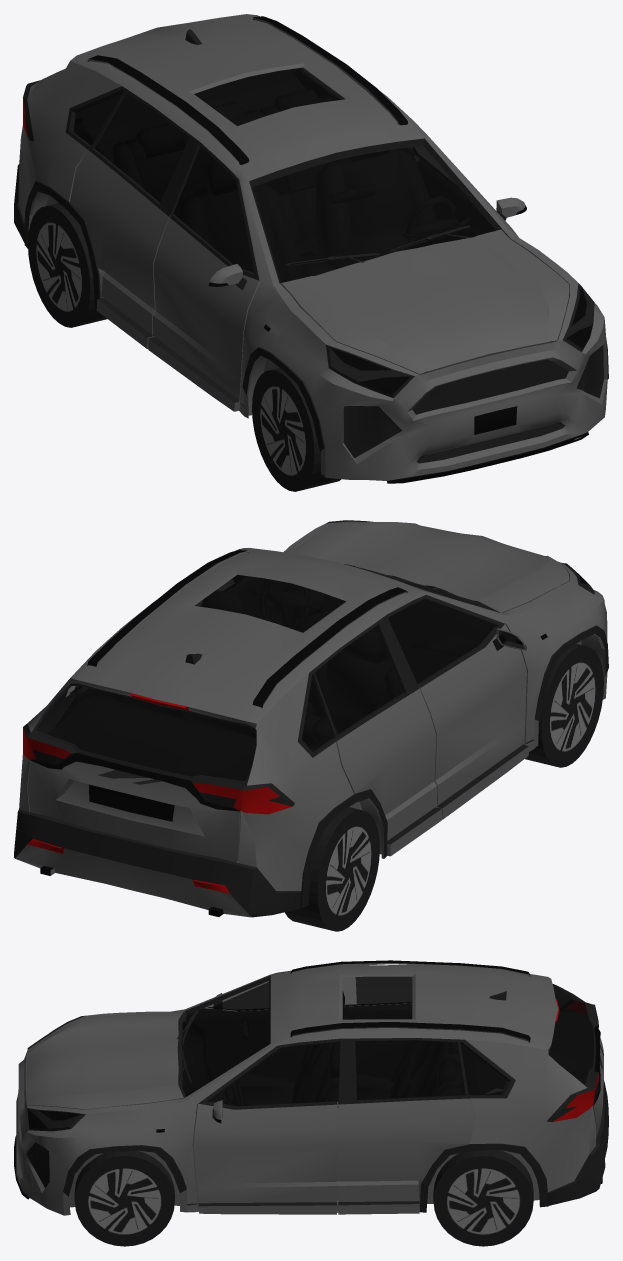
File: Alma_grey_fbx.fbx
3 renders of one model, top to bottom at view 1: azimuth 30°, elevation 25°; view 2: azimuth 150°, elevation 25°; view 3: azimuth 270°, elevation 25°, orthographic. The views are drawn at different scales.
Visible parts, largest first — view 1: Body, Interior, RearRightWheel, FrontRightWheel, Wiper; view 2: Body, Interior, RearRightWheel, FrontRightWheel; view 3: Body, Interior, RearLeftWheel, FrontLeftWheel.
Part boxes in pixels (x1,y1,x2,y2): Body: [14, 14, 608, 483]; Interior: [74, 68, 495, 282]; RearRightWheel: [28, 203, 106, 327]; FrontRightWheel: [252, 368, 340, 491]; Wiper: [285, 225, 471, 266]; Body: [14, 520, 608, 917]; Interior: [47, 577, 493, 784]; RearRightWheel: [285, 807, 379, 931]; FrontRightWheel: [525, 643, 603, 767]; Body: [14, 960, 608, 1215]; Interior: [182, 993, 603, 1107]; RearLeftWheel: [433, 1149, 533, 1246]; FrontLeftWheel: [74, 1151, 174, 1246].
Size of the model in its own units: 232 by 172 by 468.
Materials: 13 (4 with a texture image).
